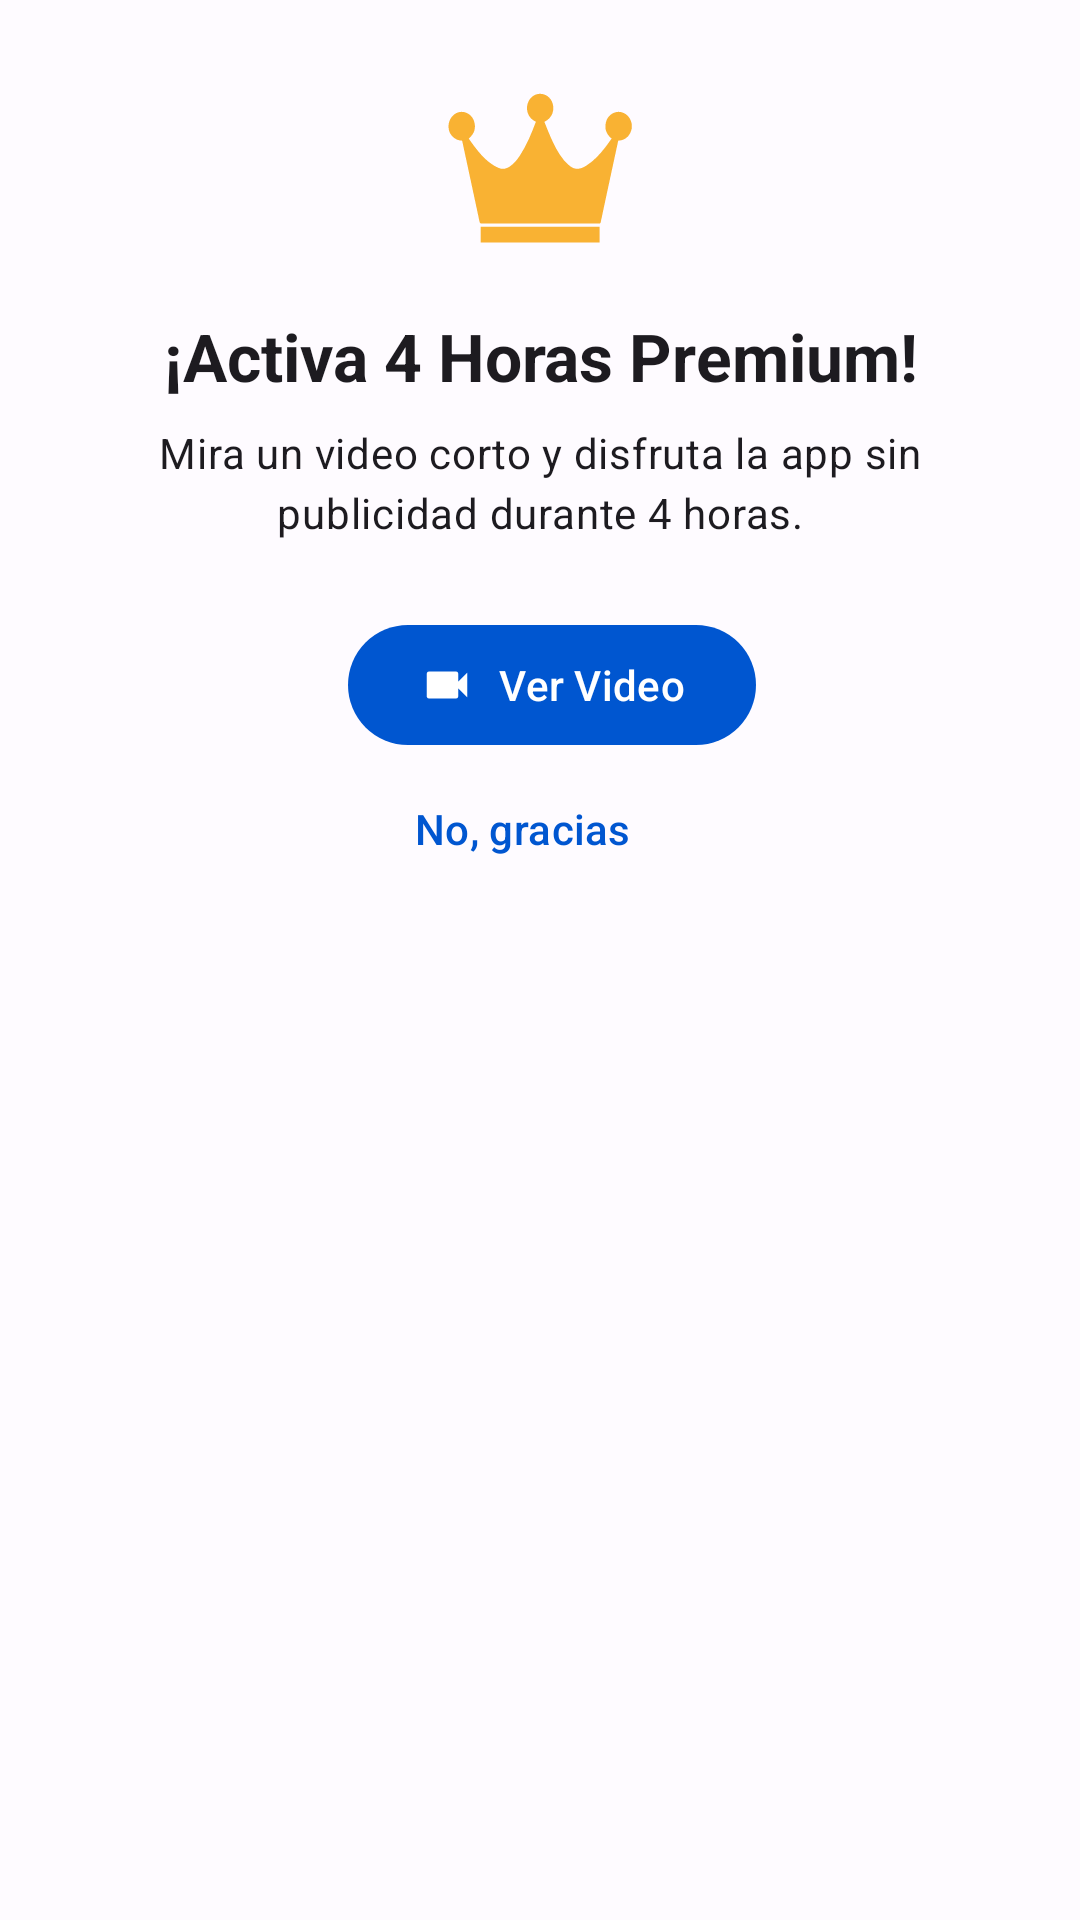

Where icons sit on this 1080 x 1920 app screen, as (x1, y1, x2, y2):
premiun: (448, 93, 632, 243)
